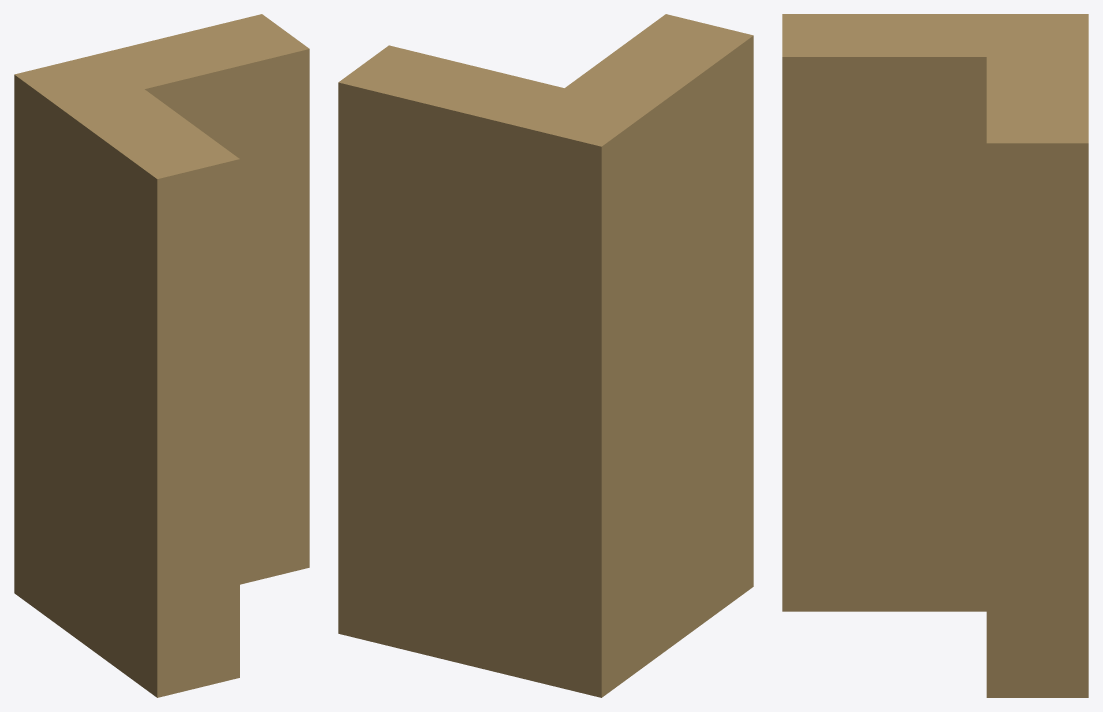
The model's file is wallCorner.fbx.
The picture shows the model from 3 angles, left to right: view 1: azimuth 30°, elevation 25°; view 2: azimuth 150°, elevation 25°; view 3: azimuth 270°, elevation 25°; orthographic projection. The views are drawn at different scales.
Visible parts, largest first — view 1: Cube.001; view 2: Cube.001; view 3: Cube.001.
Boxes of the visible parts, x1,y1,x2,y2 form: Cube.001: (14, 14, 309, 697); Cube.001: (338, 14, 753, 697); Cube.001: (782, 14, 1088, 697).
Size of the model in its own units: 1.5 by 3 by 1.5.
